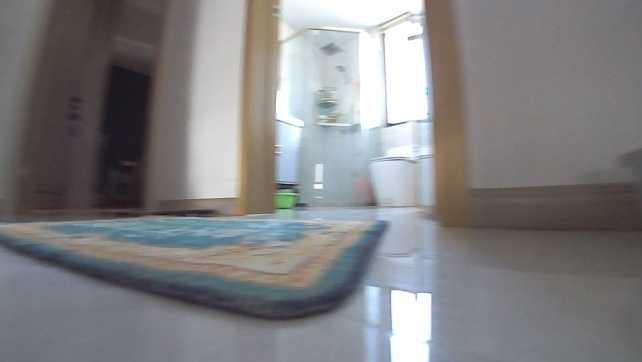blanket: (1, 206, 390, 321)
toilet: (367, 146, 419, 208)
